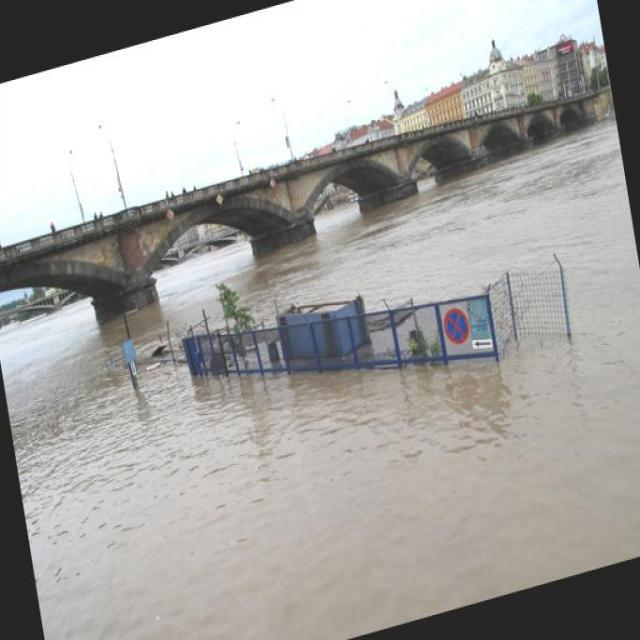flood: (0, 136, 639, 639)
